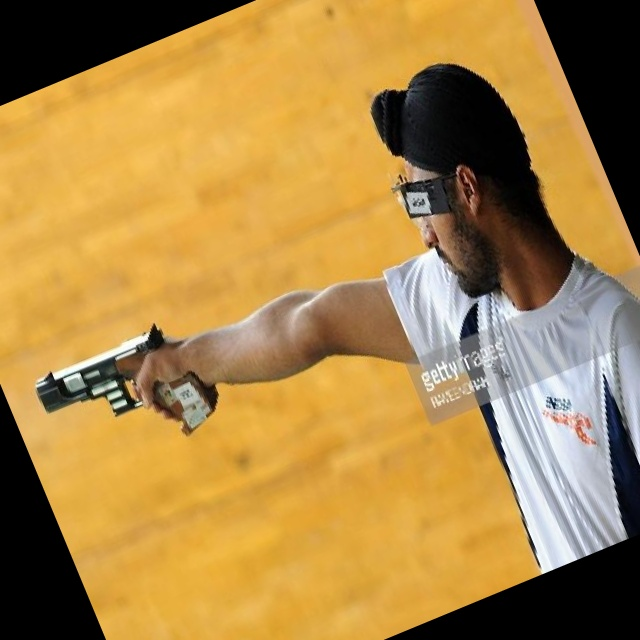gun: (16, 307, 227, 487)
